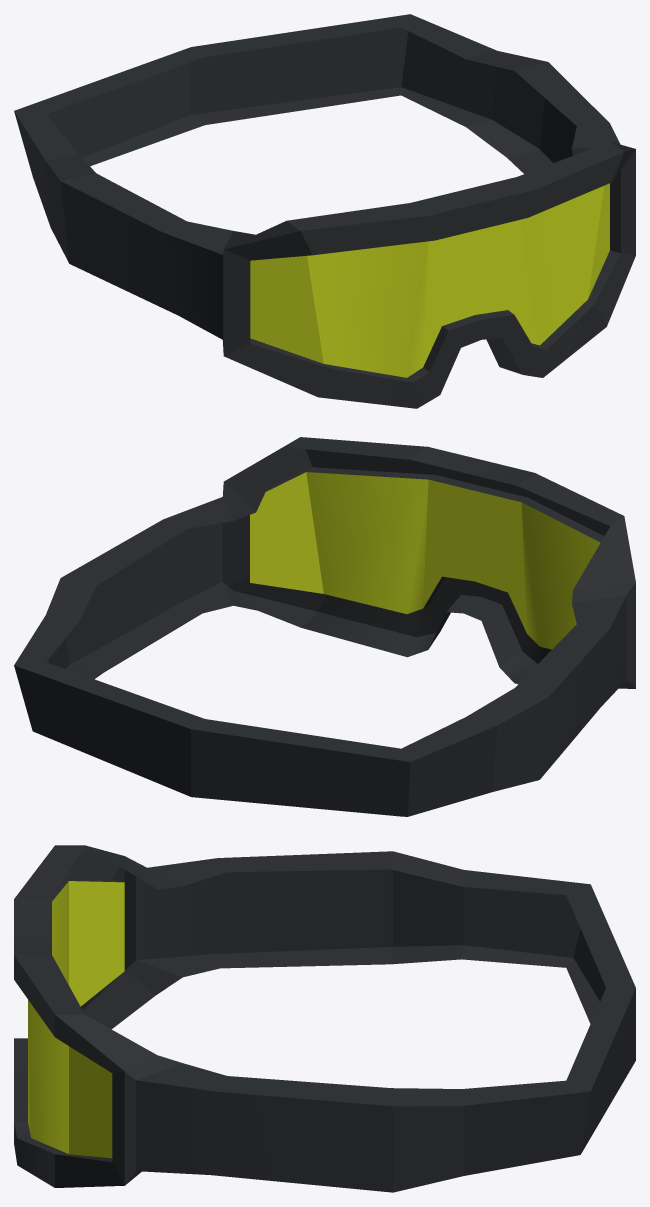
File: SM_Attachment_Goggles_01.glb
3 views of the same model, one above another, from view 1: azimuth 30°, elevation 25°; view 2: azimuth 150°, elevation 25°; view 3: azimuth 270°, elevation 25° (orthographic). The views are drawn at different scales.
Visible parts, largest first — view 1: SM_Attachment_Goggles_01; view 2: SM_Attachment_Goggles_01; view 3: SM_Attachment_Goggles_01.
Part boxes in pixels (x1,y1,x2,y2): SM_Attachment_Goggles_01: (14,14,635,408); SM_Attachment_Goggles_01: (14,437,635,816); SM_Attachment_Goggles_01: (14,845,635,1192).
Size of the model in its own units: 0.2852 by 0.1091 by 0.2939.
1 material, 1 textured.
